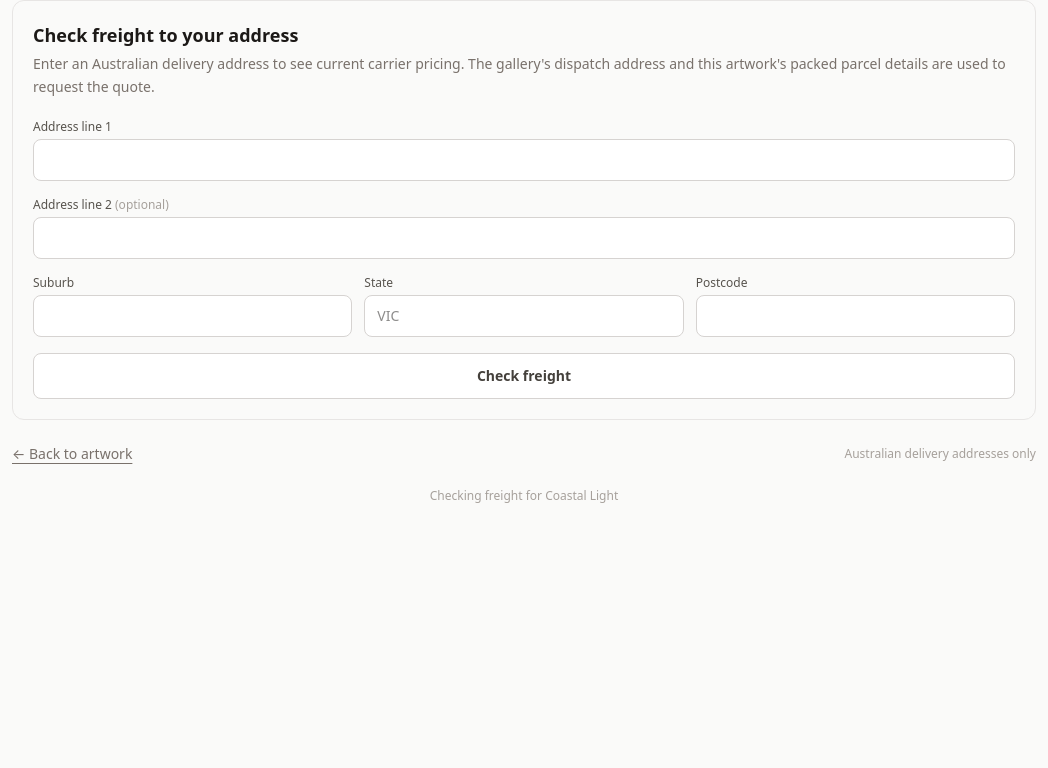
Scenario: FreightQuoteChecker › requests an Australian guest quote, shows packaging, and carries only the quote ID to purchase
Type "1 Test Street" into the field labelled "Address line 1" at {"x": 524, "y": 160}, box [33,138,1015,180]
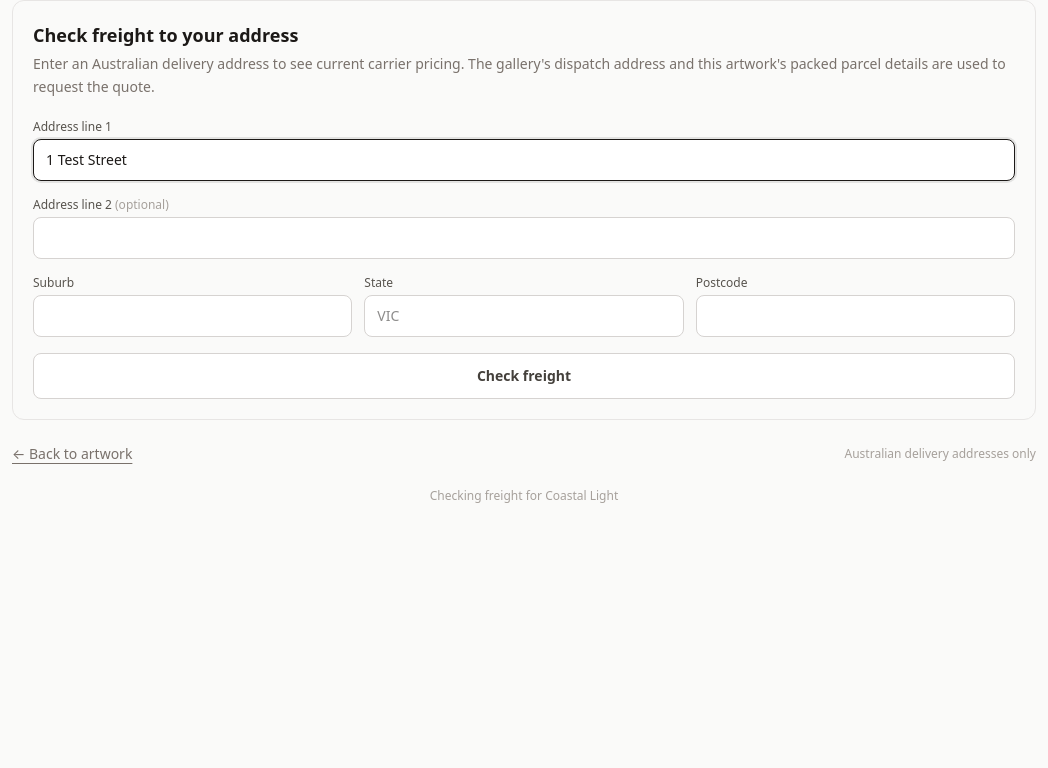
Type "Fitzroy" into the field labelled "Suburb" at {"x": 193, "y": 316}, box [33,294,352,336]
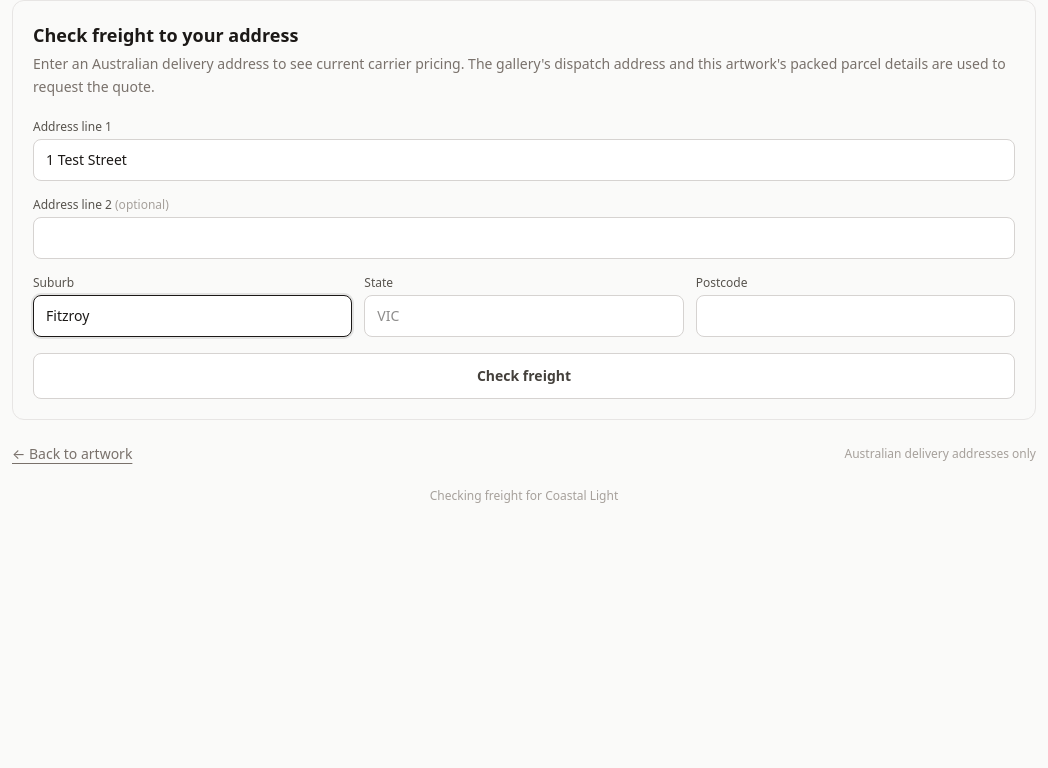
Type "vic" into the field labelled "State" at {"x": 524, "y": 316}, box [364,294,684,336]
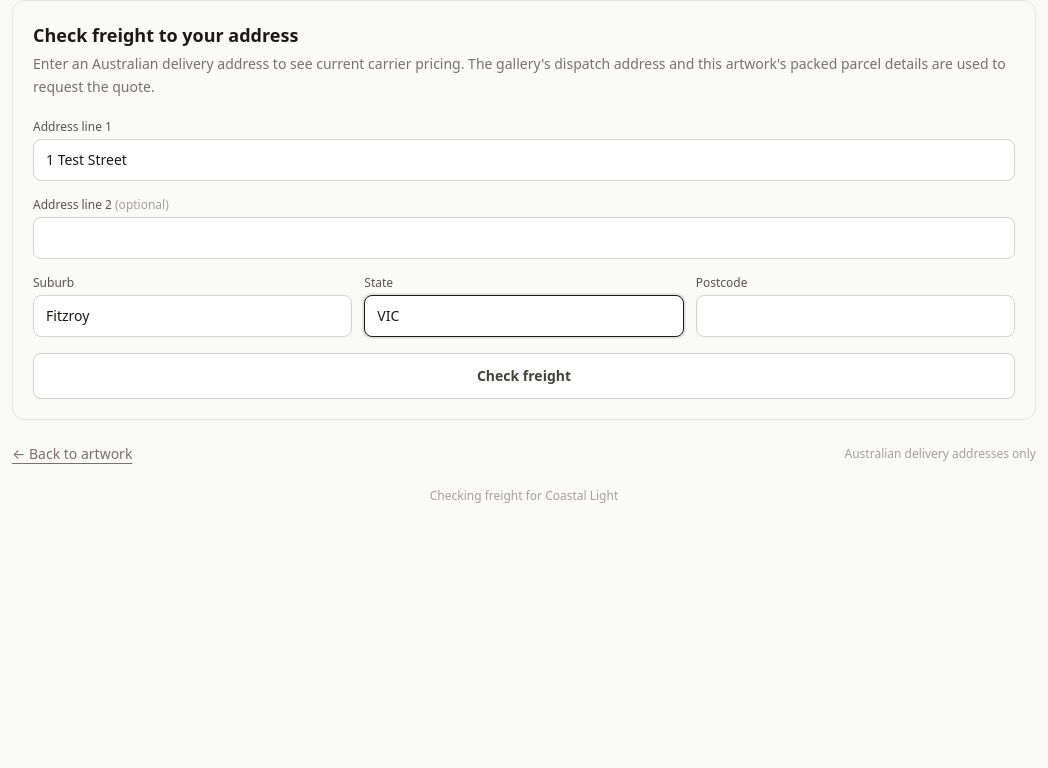
Type "3065" into the field labelled "Postcode" at {"x": 855, "y": 316}, box [696,294,1015,336]
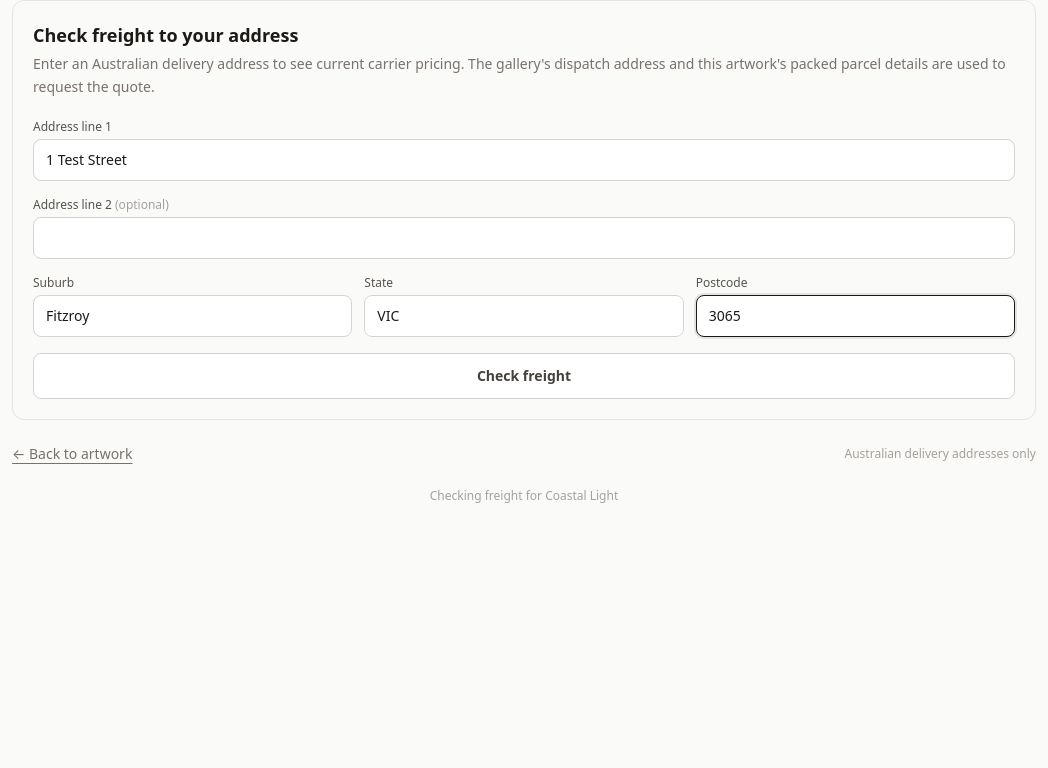
Click the button "Check freight" at {"x": 524, "y": 376}, box [33,352,1015,398]
(page scrolled)
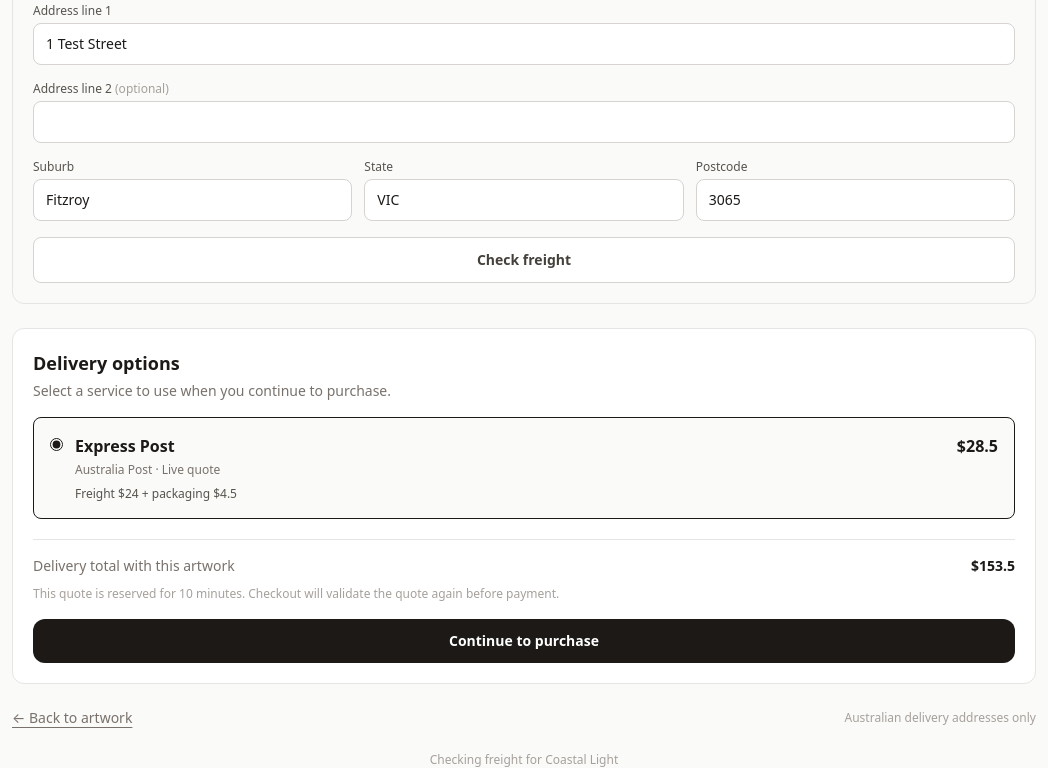
Check: the text "Express Post" is shown, box [75,434,175,458]
Check: the text "Freight $24 + packaging $4.5" is shown, box [75,484,237,502]
Check: the text "$153.5" is shown, box [971,556,1015,576]
